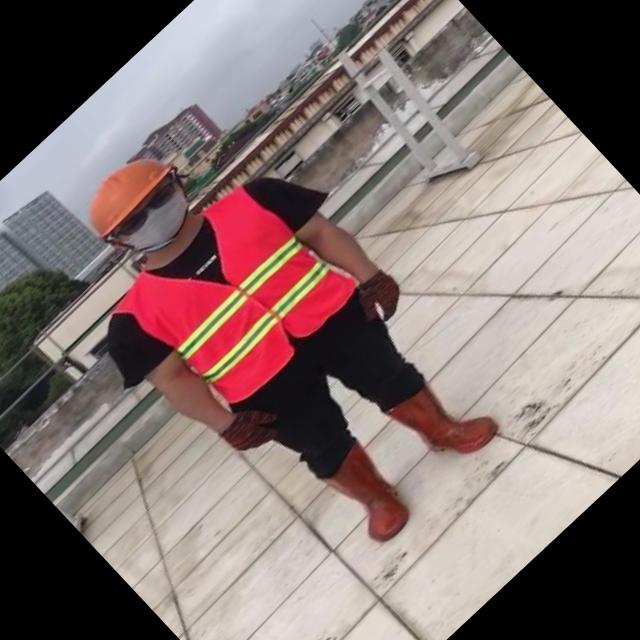hard_hat: (70, 134, 184, 244)
safety_vest: (114, 178, 358, 420)
vehicle: (14, 71, 543, 608)
work_boots: (387, 359, 504, 477), (316, 441, 422, 549)
